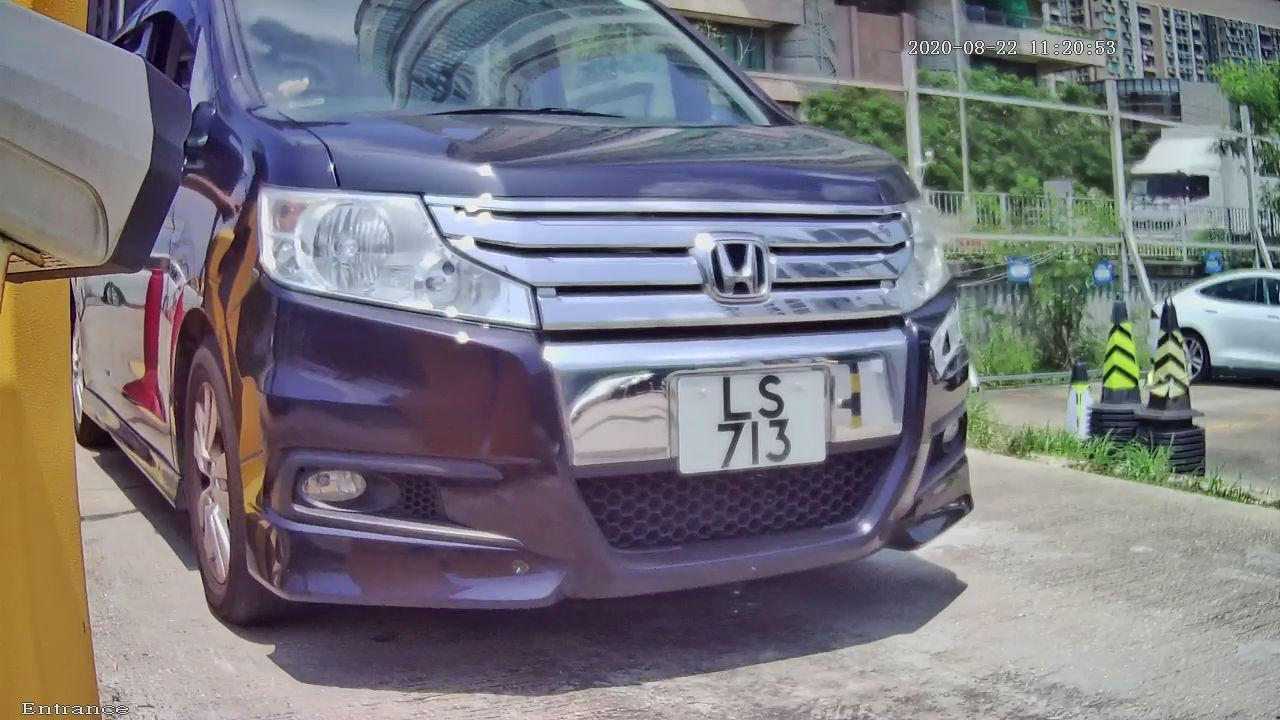Car: (69, 10, 1058, 685)
License Plate: (646, 328, 863, 499)
